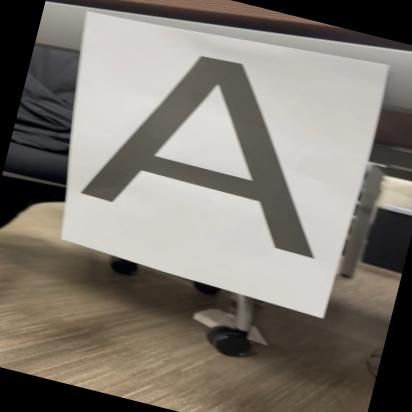seat: (56, 22, 362, 268)
